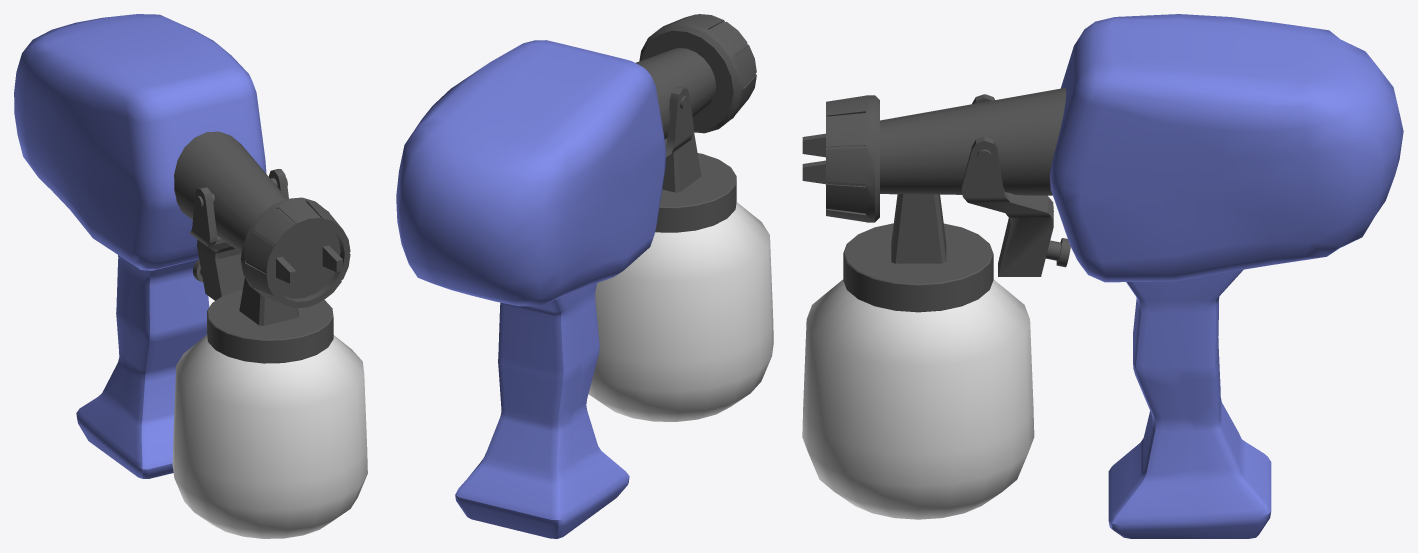
File: spray.fbx
3 views of the same model, side by side, from view 1: azimuth 30°, elevation 25°; view 2: azimuth 150°, elevation 25°; view 3: azimuth 270°, elevation 25° (orthographic). The views are drawn at different scales.
Parts seen in each view (by area): view 1: polySurface8; view 2: polySurface8; view 3: polySurface8.
Boxes of the visible parts, bbox=[...] form: polySurface8: bbox=[14, 14, 367, 538]; polySurface8: bbox=[396, 14, 773, 538]; polySurface8: bbox=[802, 14, 1403, 538].
Size of the model in its own units: 8.11 by 18.06 by 21.02.
